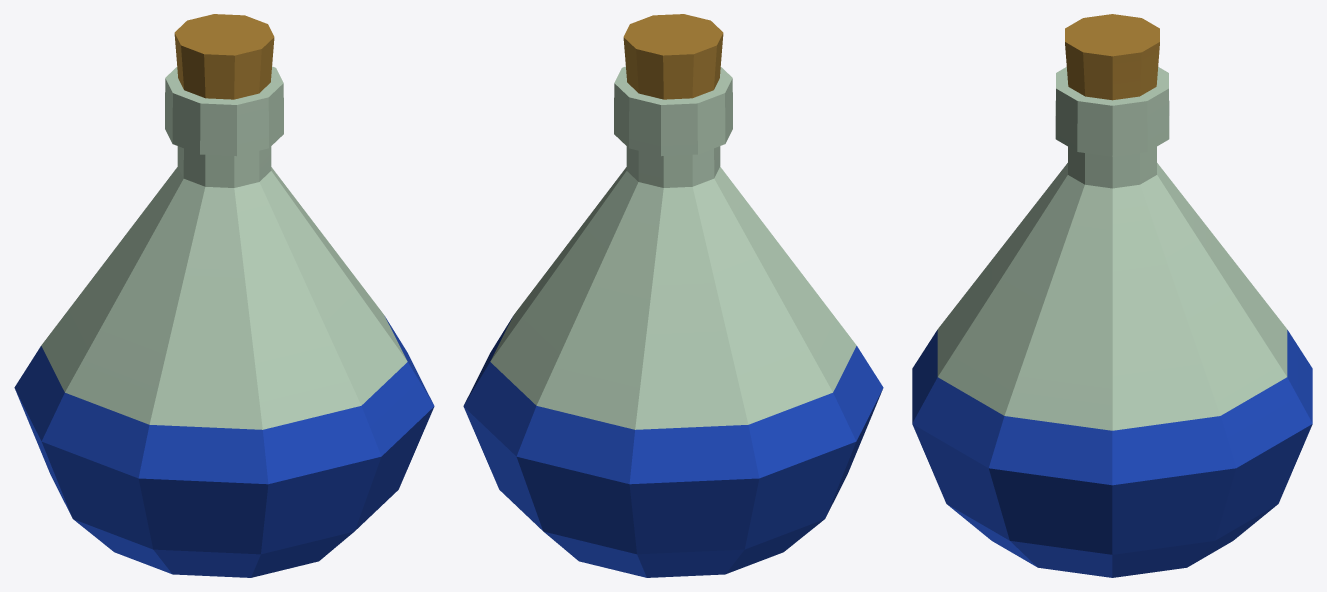
Rendered from Potion_C.fbx.
3 renders of one model, left to right at view 1: azimuth 30°, elevation 25°; view 2: azimuth 150°, elevation 25°; view 3: azimuth 270°, elevation 25°, orthographic.
Visible parts, largest first — view 1: Potion_C; view 2: Potion_C; view 3: Potion_C.
Boxes of the visible parts, left/top/right/bottom form: Potion_C: left=14, top=14, right=434, bottom=577; Potion_C: left=463, top=14, right=883, bottom=577; Potion_C: left=912, top=14, right=1312, bottom=577.
Size of the model in its own units: 15.72 by 20.15 by 14.95.
